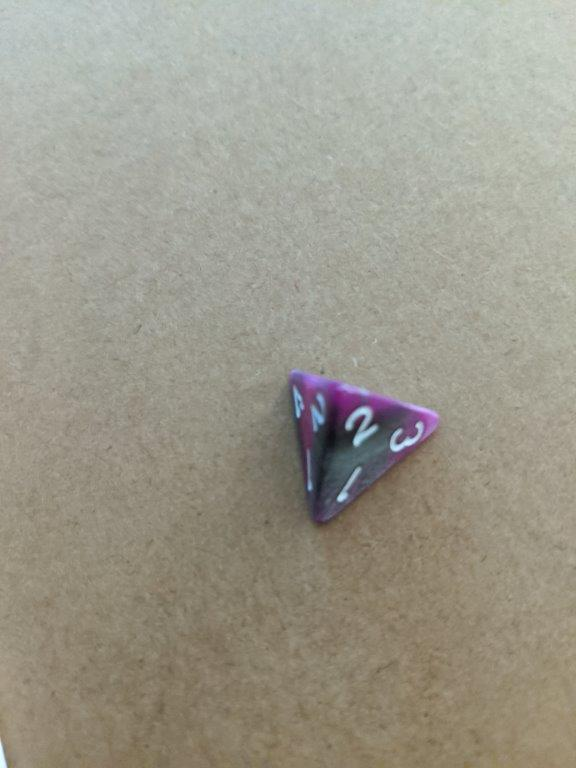d4-2: (283, 363, 442, 530)
